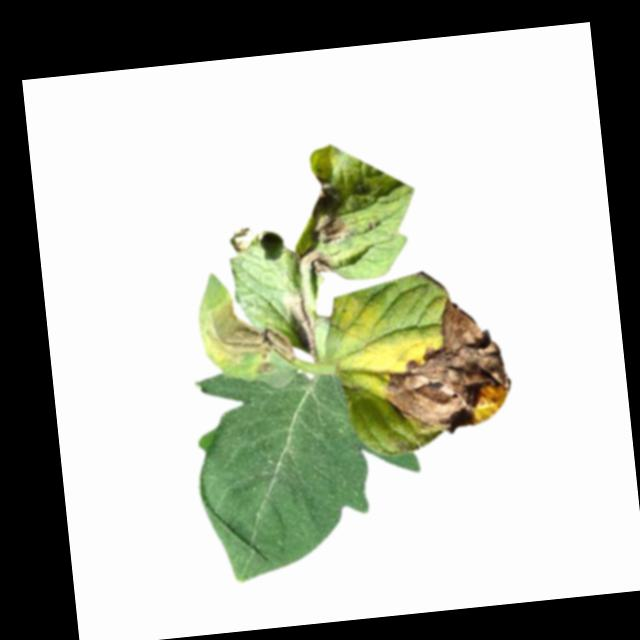Late_blight: (373, 292, 514, 439), (199, 294, 298, 373), (304, 169, 352, 251), (283, 288, 319, 362), (293, 247, 337, 278), (227, 222, 265, 252), (253, 360, 276, 376)
